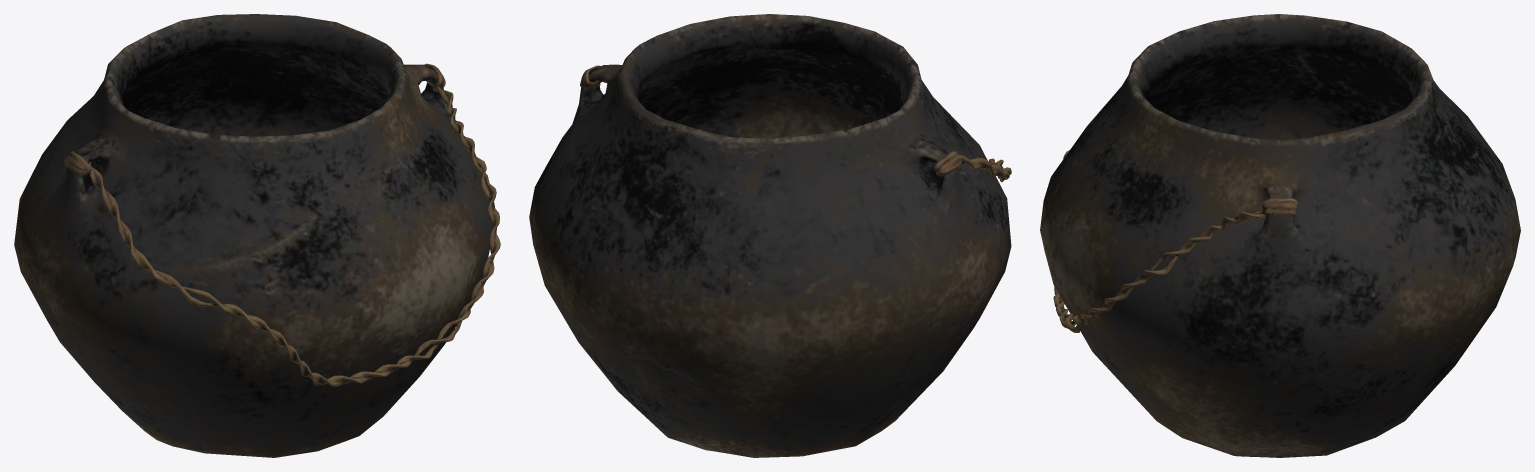
Rendered from SM_Ceramica04.glb.
3 views of the same model, side by side, from view 1: azimuth 30°, elevation 25°; view 2: azimuth 150°, elevation 25°; view 3: azimuth 270°, elevation 25° (orthographic).
Visible parts, largest first — view 1: SM_Ceramica04; view 2: SM_Ceramica04; view 3: SM_Ceramica04.
Part boxes in pixels (bbox=[...]): SM_Ceramica04: bbox=[14, 14, 500, 457]; SM_Ceramica04: bbox=[529, 14, 1011, 457]; SM_Ceramica04: bbox=[1040, 14, 1520, 457].
Bounding box in the file's own units: 0.4452 × 0.3409 × 0.4414.
1 material, 1 textured.
